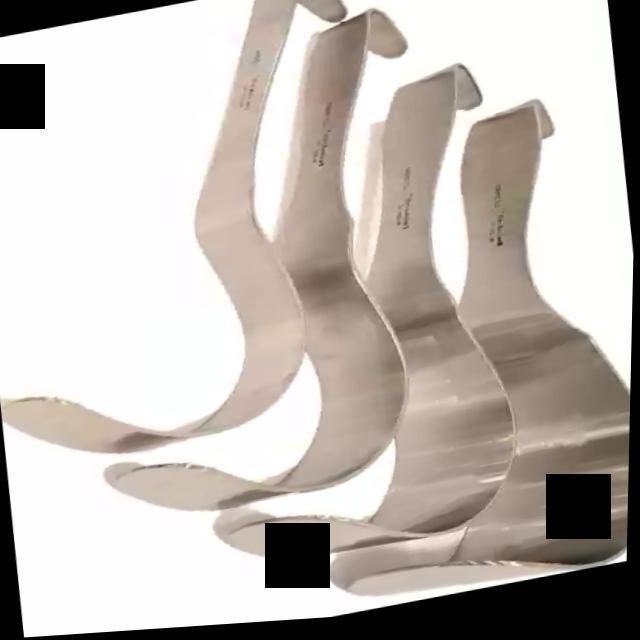Deaver Retractor: (59, 0, 467, 531), (282, 61, 638, 622), (170, 52, 542, 584), (0, 0, 406, 479)
